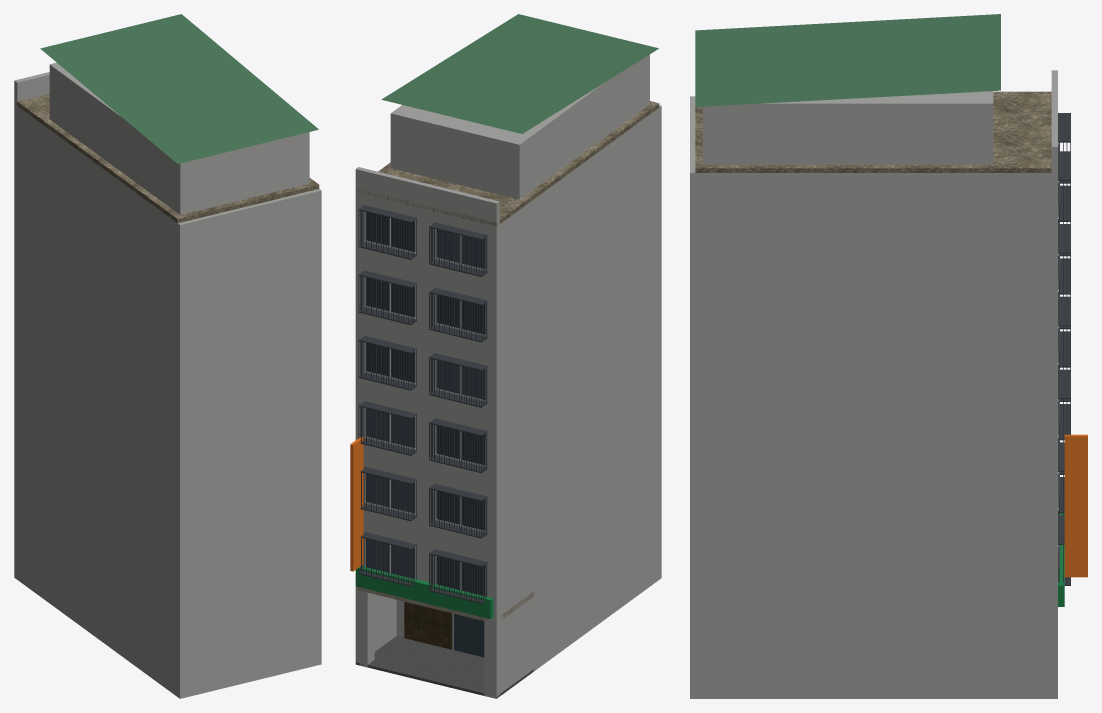
Rendered from street-house-c.glb.
3 renders of one model, left to right at view 1: azimuth 30°, elevation 25°; view 2: azimuth 150°, elevation 25°; view 3: azimuth 270°, elevation 25°, orthographic. The views are drawn at different scales.
Parts seen in each view (by area): view 1: StreetHouseC; view 2: StreetHouseC; view 3: StreetHouseC.
Part boxes in pixels (bbox=[...]): StreetHouseC: bbox=[14, 14, 321, 698]; StreetHouseC: bbox=[350, 14, 661, 698]; StreetHouseC: bbox=[690, 14, 1087, 698].
Bounding box in the file's own units: 7 × 25.9 × 15.35.
Materials: 15 (4 with a texture image).
